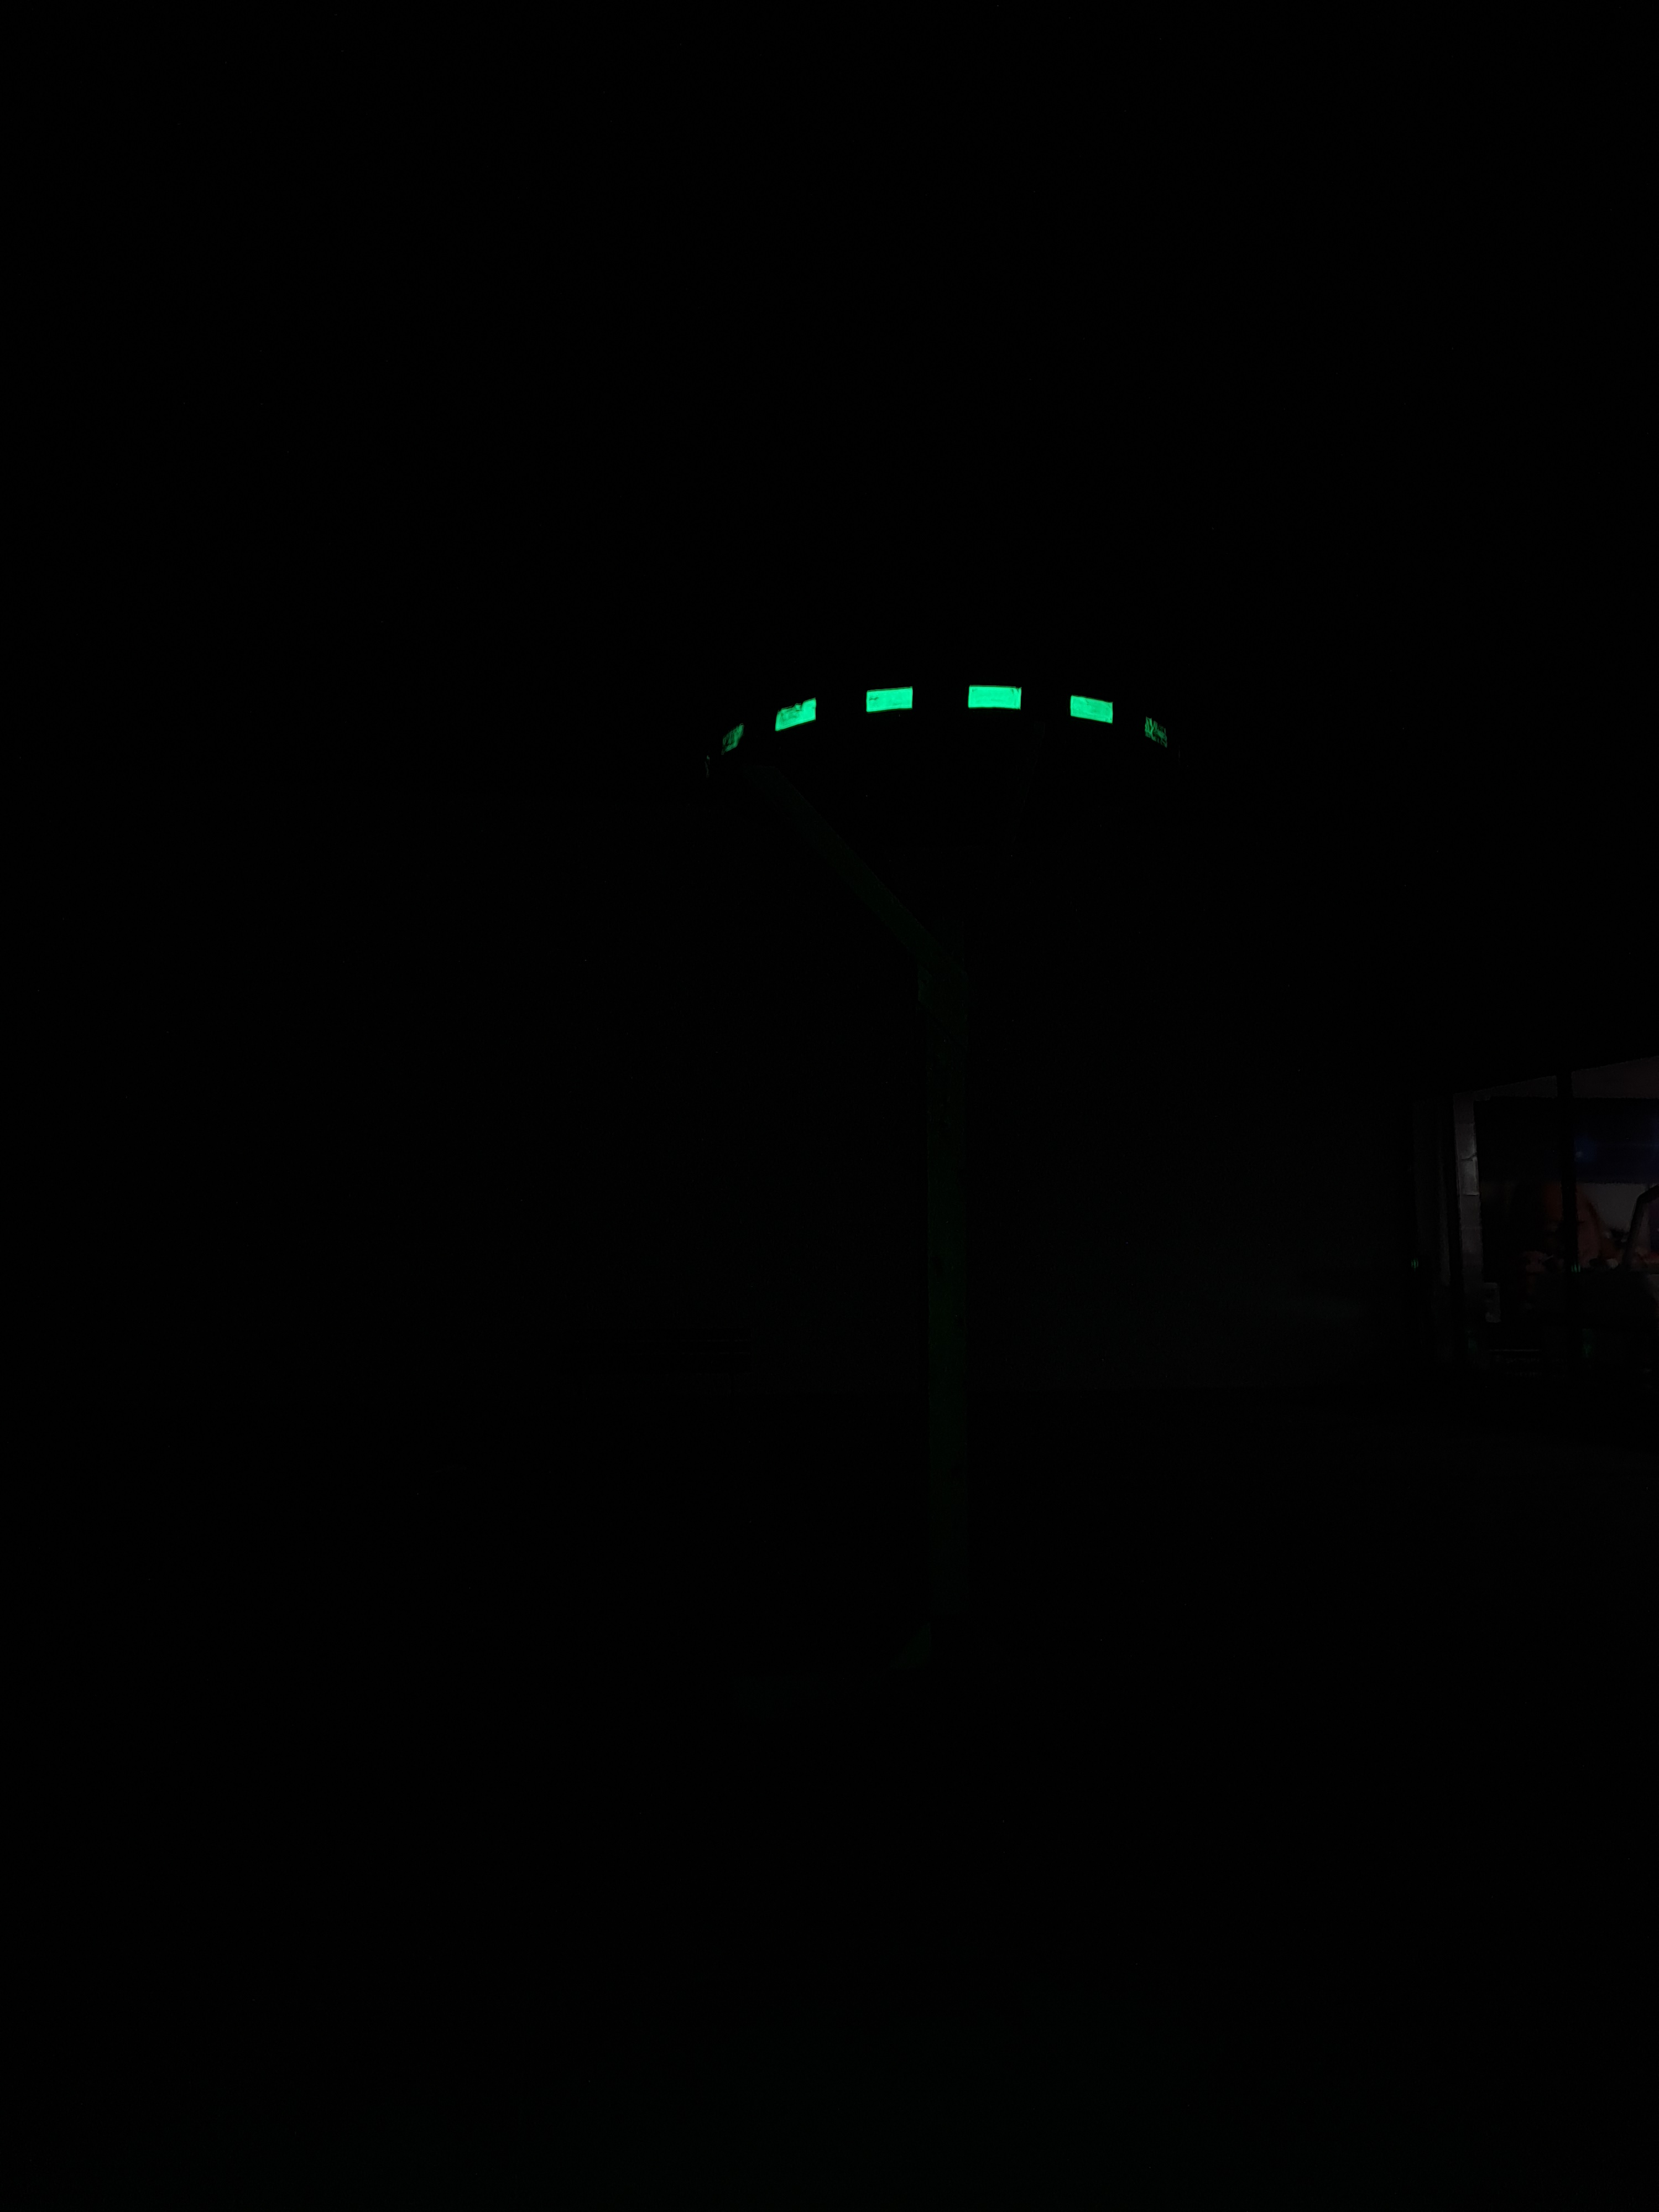hoop: (678, 660, 1187, 761)
